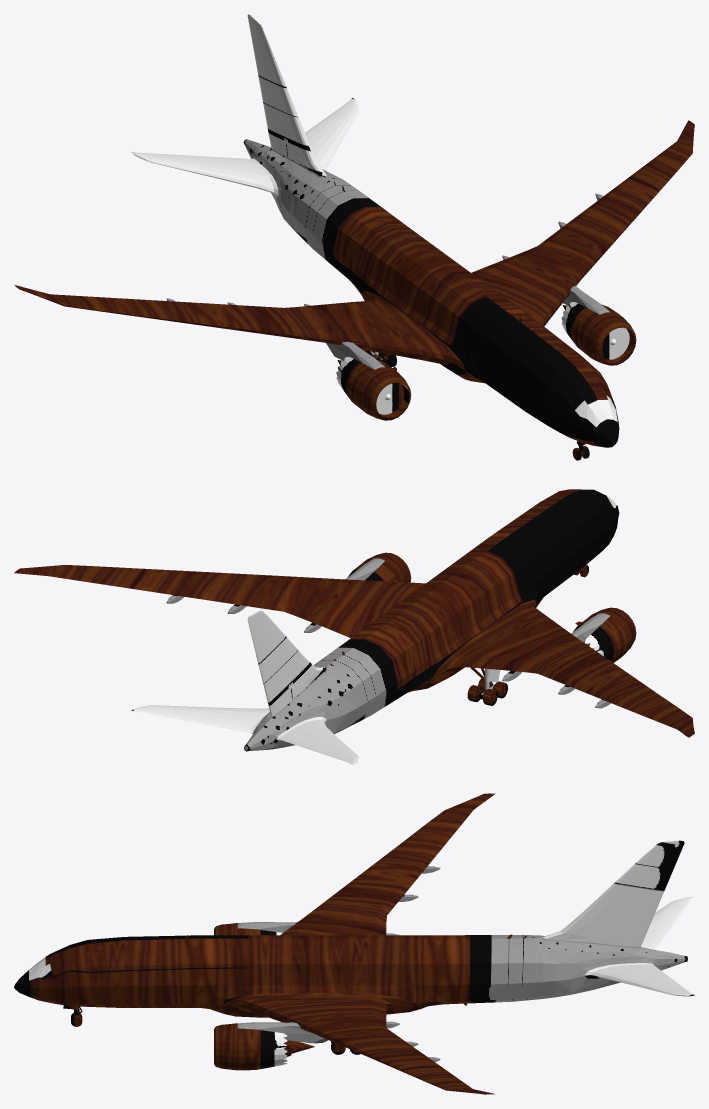
The model's file is Boeing_787.obj.
The picture shows the model from 3 angles, top to bottom: view 1: azimuth 30°, elevation 25°; view 2: azimuth 150°, elevation 25°; view 3: azimuth 270°, elevation 25°; orthographic projection. The views are drawn at different scales.
Parts seen in each view (by area): view 1: fuselage.001_Cube.010, engine.001_Cylinder.013; view 2: fuselage.001_Cube.010, engine.001_Cylinder.013, wheel.002_Cylinder.008, aileron.001_Cube.013; view 3: fuselage.001_Cube.010, engine.001_Cylinder.013.
Boxes of the visible parts, <box> form: fuselage.001_Cube.010: <box>14,14,694,447</box>; engine.001_Cylinder.013: <box>326,285,636,420</box>; fuselage.001_Cube.010: <box>14,489,694,764</box>; engine.001_Cylinder.013: <box>345,552,636,662</box>; wheel.002_Cylinder.008: <box>467,678,507,705</box>; aileron.001_Cube.013: <box>166,595,610,708</box>; fuselage.001_Cube.010: <box>14,793,694,1094</box>; engine.001_Cylinder.013: <box>214,922,328,1070</box>.
Bounding box in the file's own units: 4.84 × 1.39 × 4.64.
